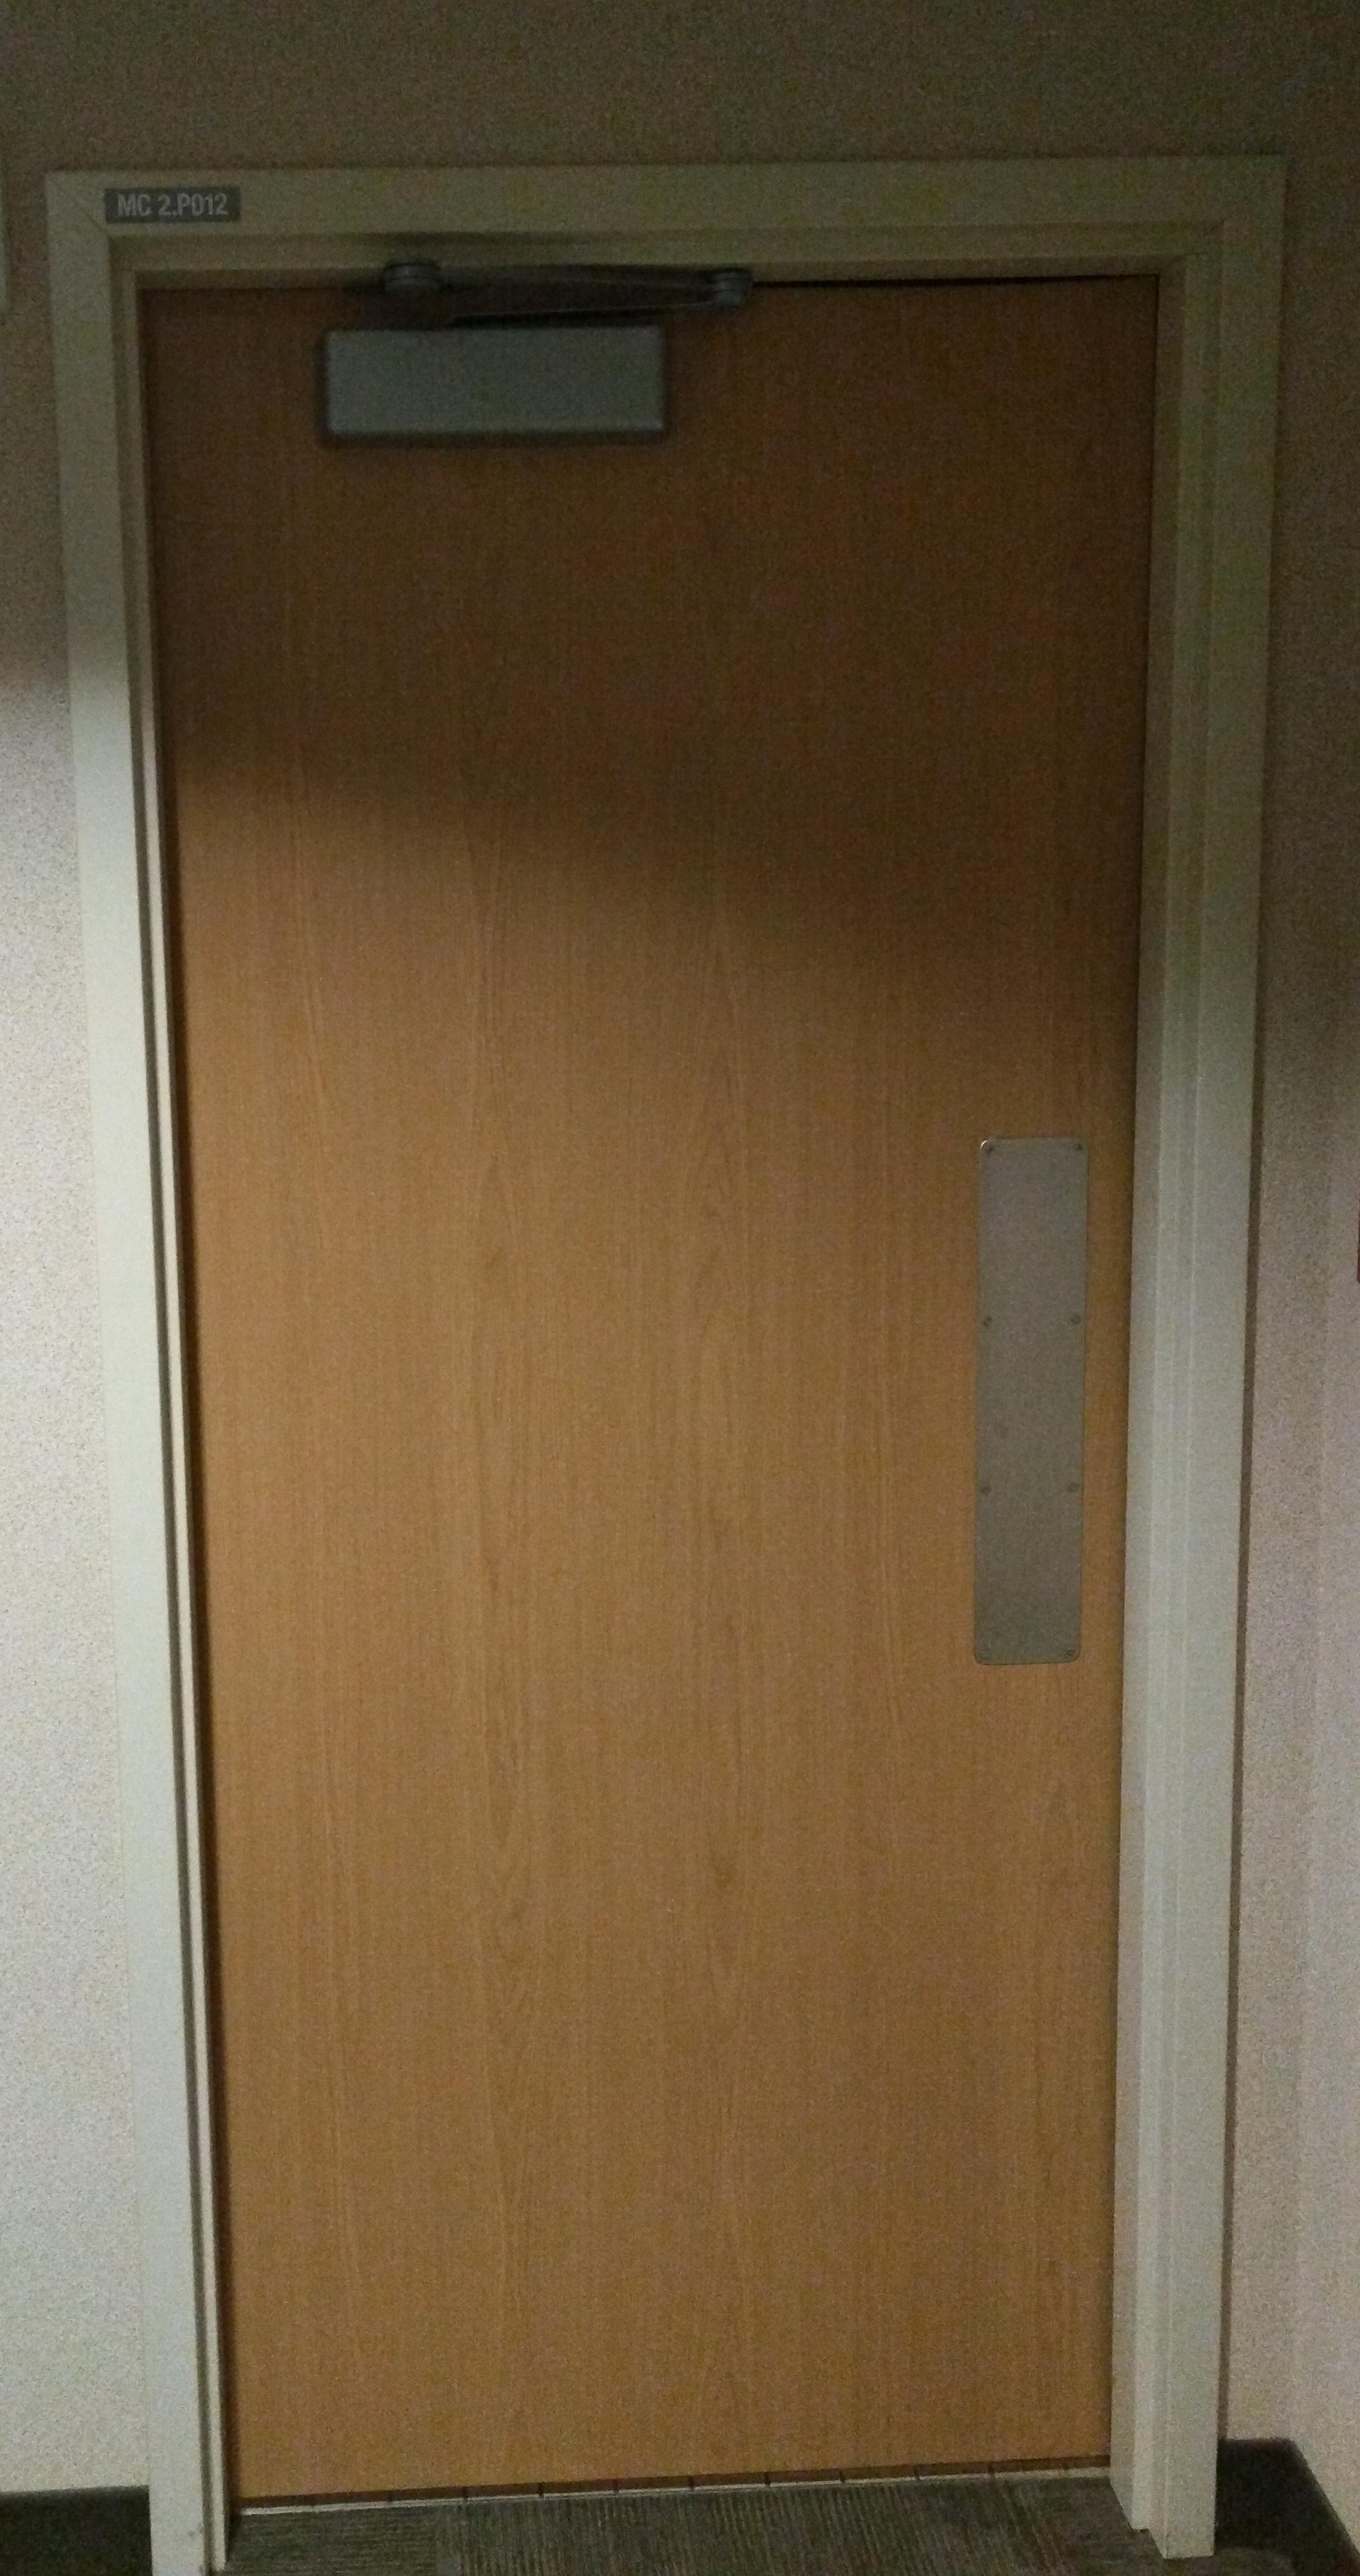door: (77, 184, 1202, 2515)
